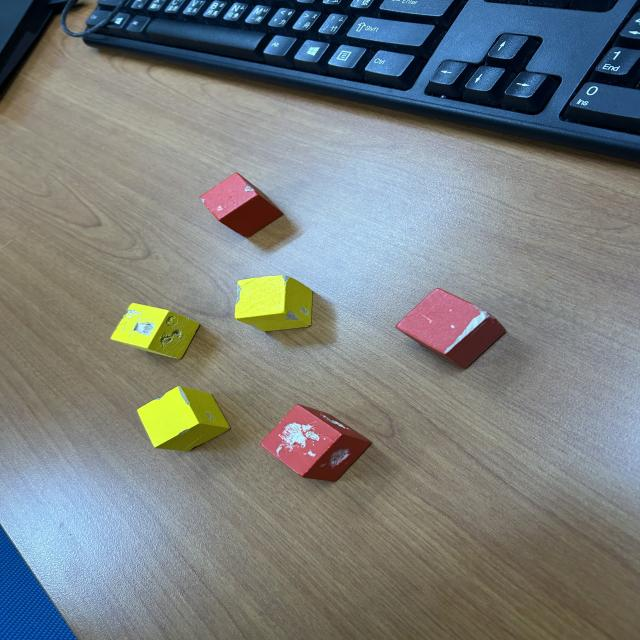broken: (395, 287, 508, 371), (261, 404, 376, 483), (136, 386, 230, 452), (201, 172, 287, 240), (112, 301, 201, 362), (234, 274, 313, 336)
